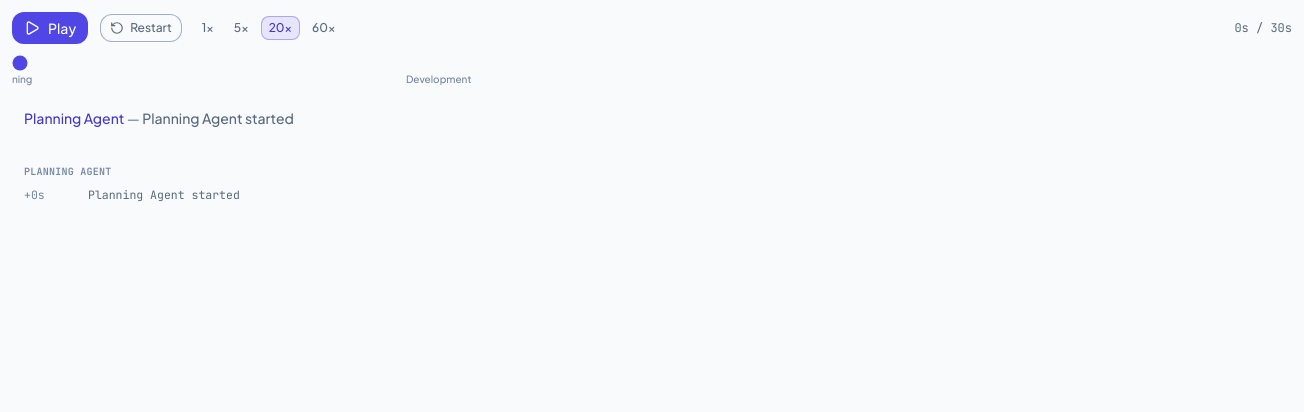
Test case: WorkflowReplayPanel › reveals later real events as playback advances
Click the button with aria-label "Play replay".
click(50, 28)  # box top-left (12, 12), bottom-right (88, 44)
Wait 5000 ms
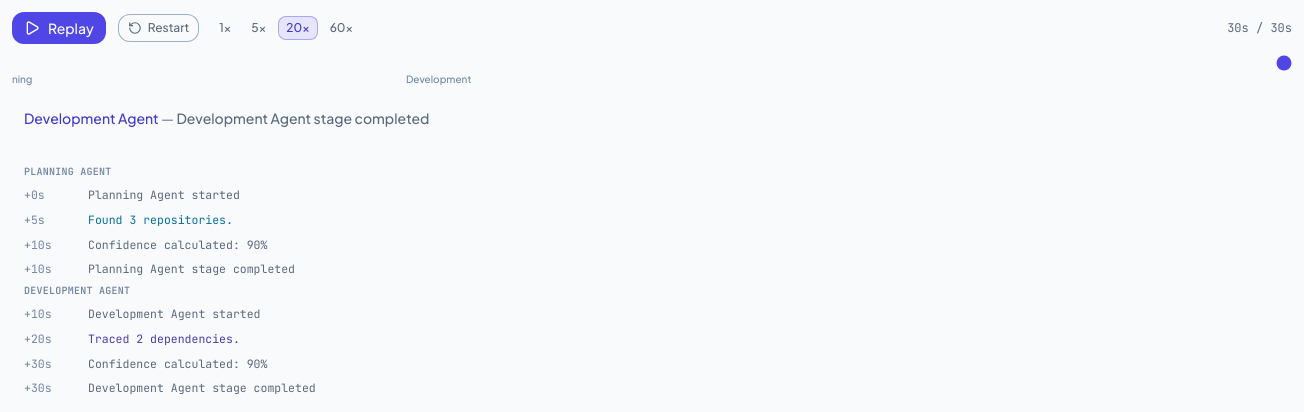
Expected: the text "Traced 2 dependencies." is shown, top-left (88, 331), bottom-right (240, 346)
